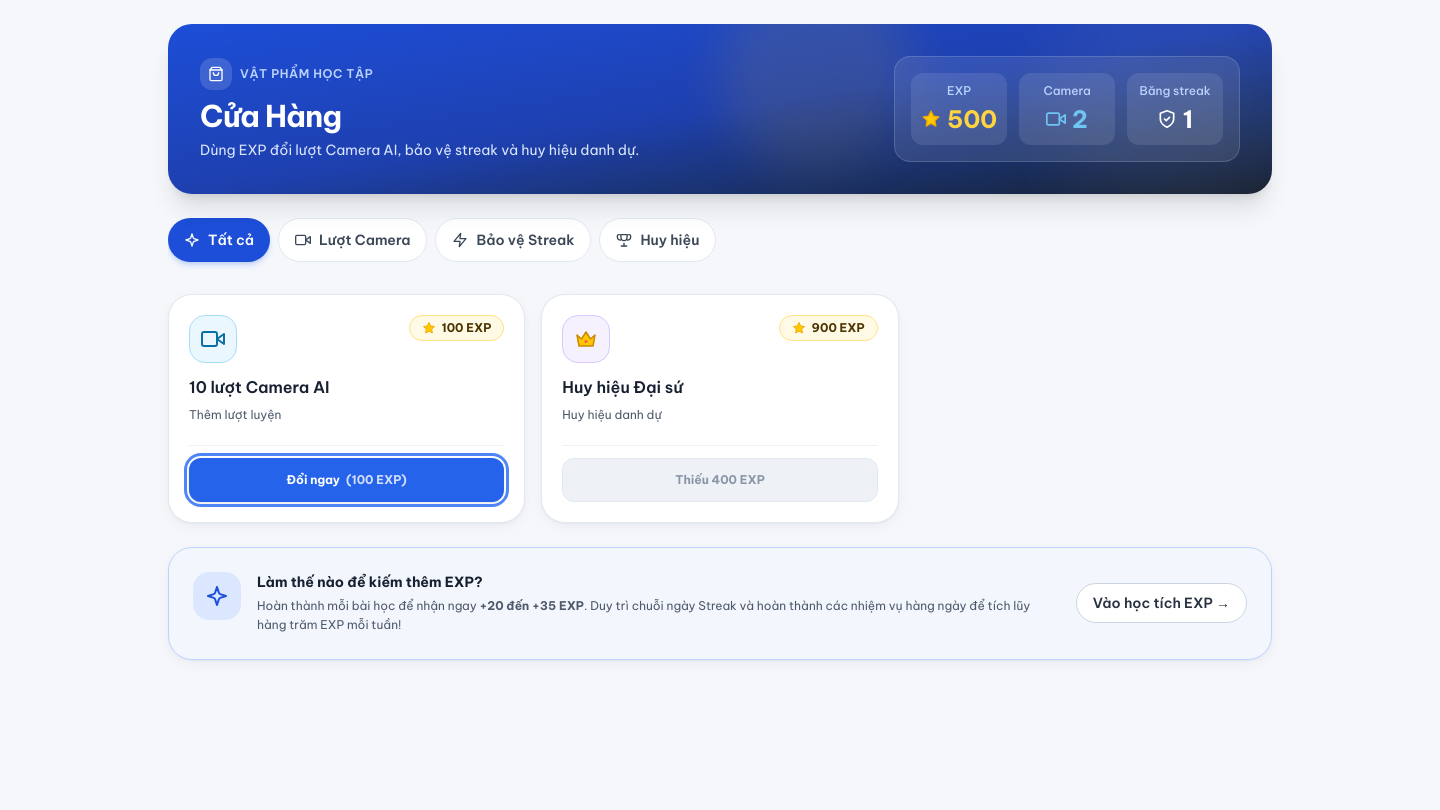
Test: ShopPage › closes the confirmation dialog with Escape and restores focus
Expected: the heading "10 lượt Camera AI" is shown, [189, 377, 330, 397]
Click the button "Đổi ngay (100 EXP)" at (347, 480), box [189, 458, 504, 502]
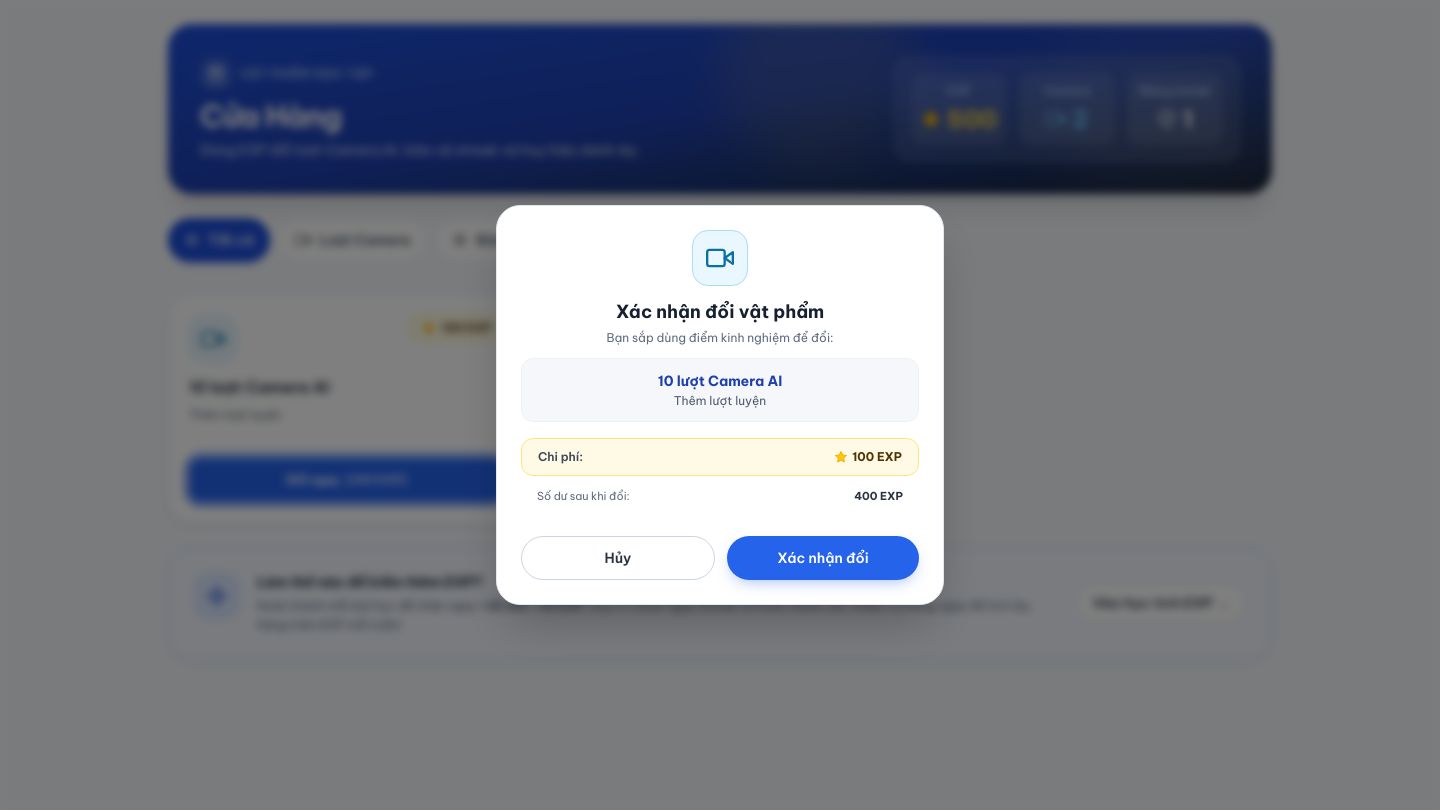
Now the dialog is shown, box [496, 205, 944, 605]
Press Escape
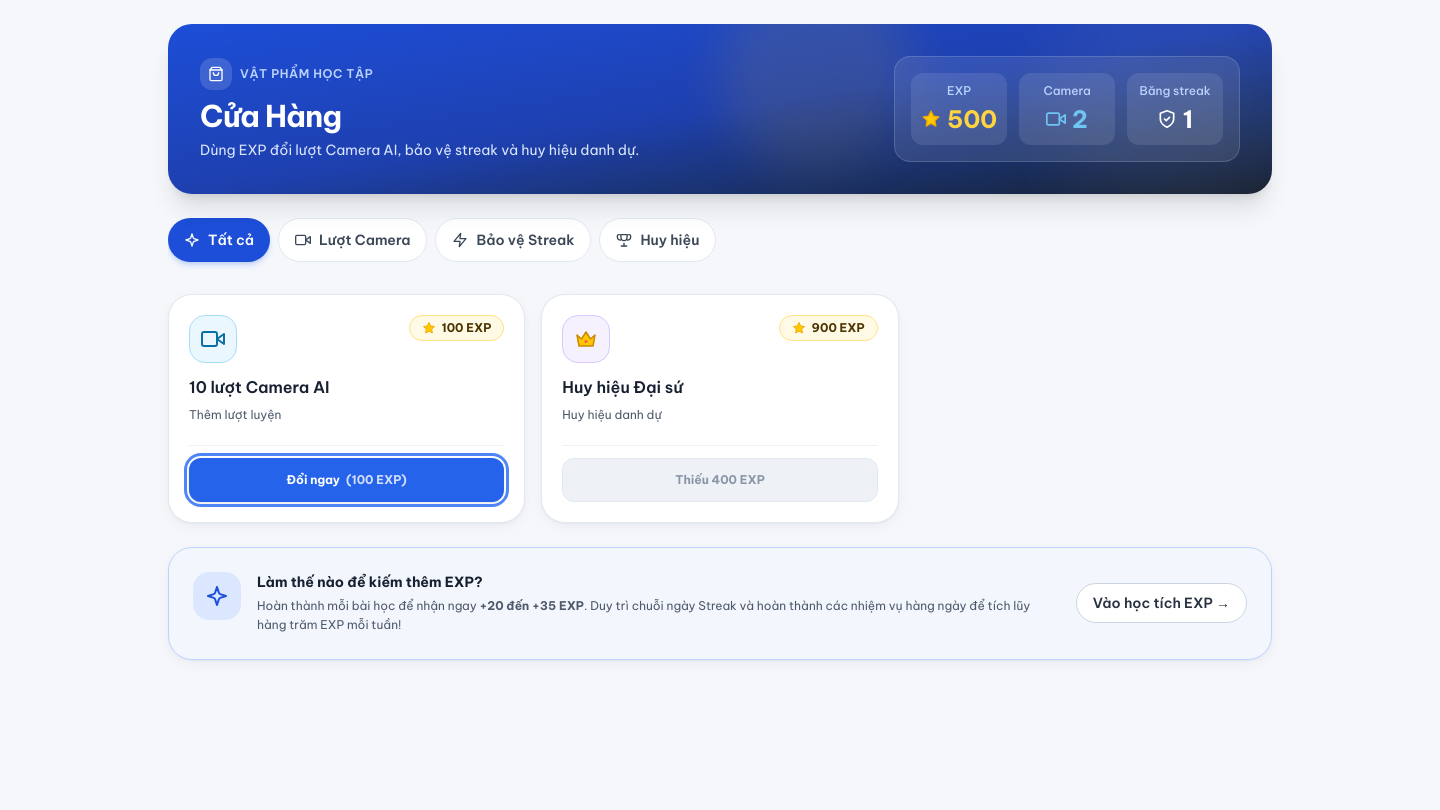
Now the dialog is gone
